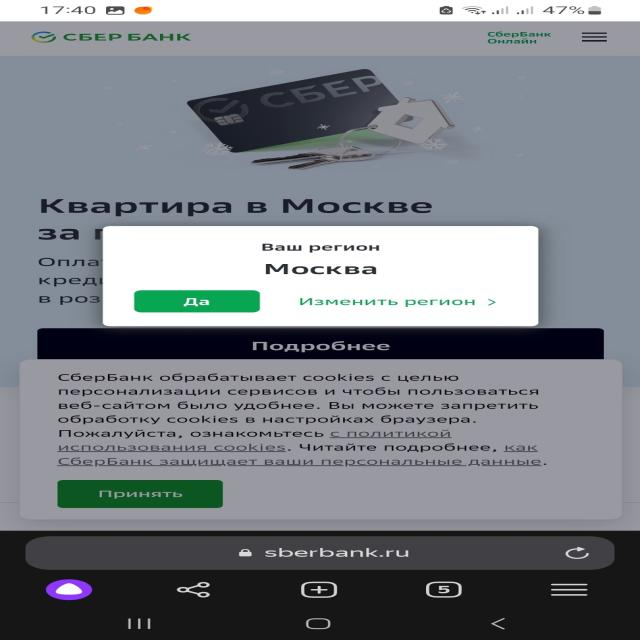button: (288, 291, 507, 313), (59, 480, 224, 507), (134, 290, 259, 313)
site: (22, 361, 619, 518), (103, 227, 540, 326)
